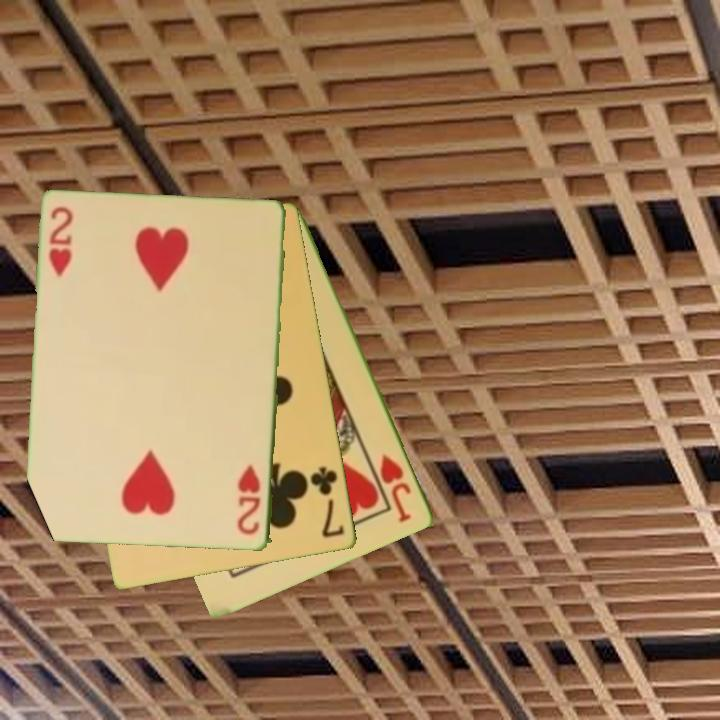2h: (46, 203, 77, 280), (234, 461, 264, 538)
7c: (307, 463, 348, 541)
Jh: (377, 450, 415, 526)
